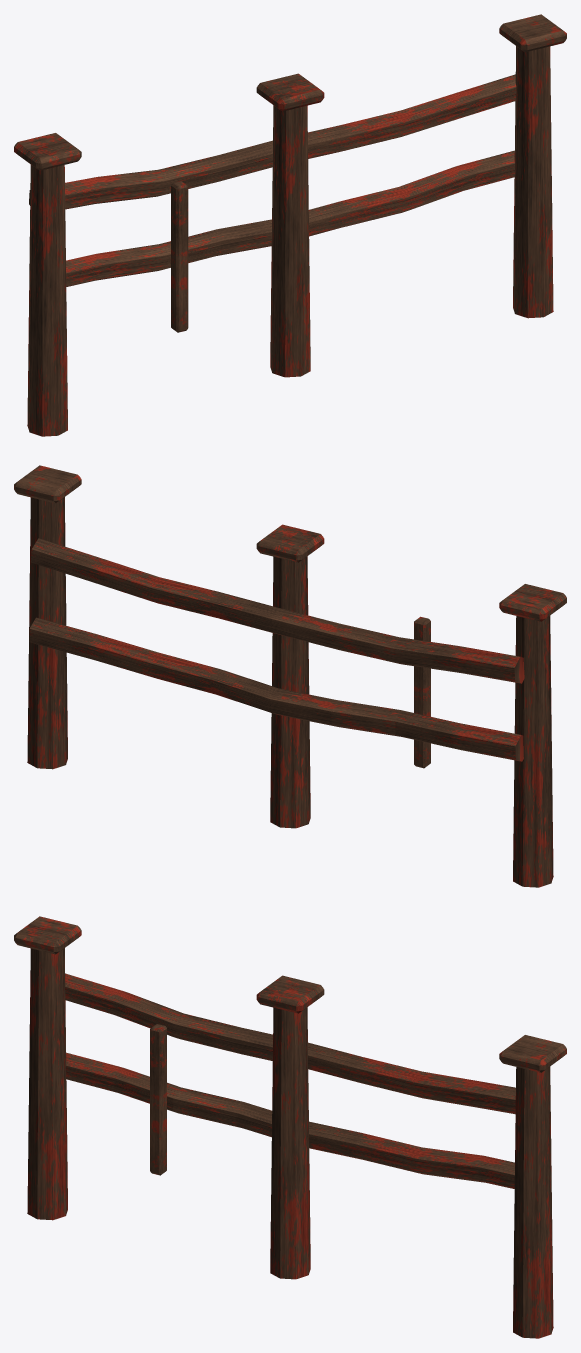
The model's file is Bell_Fence_Rail.glb.
3 views of the same model, one above another, from view 1: azimuth 30°, elevation 25°; view 2: azimuth 150°, elevation 25°; view 3: azimuth 330°, elevation 25° (orthographic).
Visible parts, largest first — view 1: Bell_Fence_Rail__Timber; view 2: Bell_Fence_Rail__Timber; view 3: Bell_Fence_Rail__Timber.
Boxes of the visible parts, bbox=[...] form: Bell_Fence_Rail__Timber: bbox=[14, 14, 566, 436]; Bell_Fence_Rail__Timber: bbox=[14, 465, 566, 887]; Bell_Fence_Rail__Timber: bbox=[14, 916, 566, 1338].
Size of the model in its own units: 8.75 by 4.45 by 0.9678.
1 material, 1 textured.
